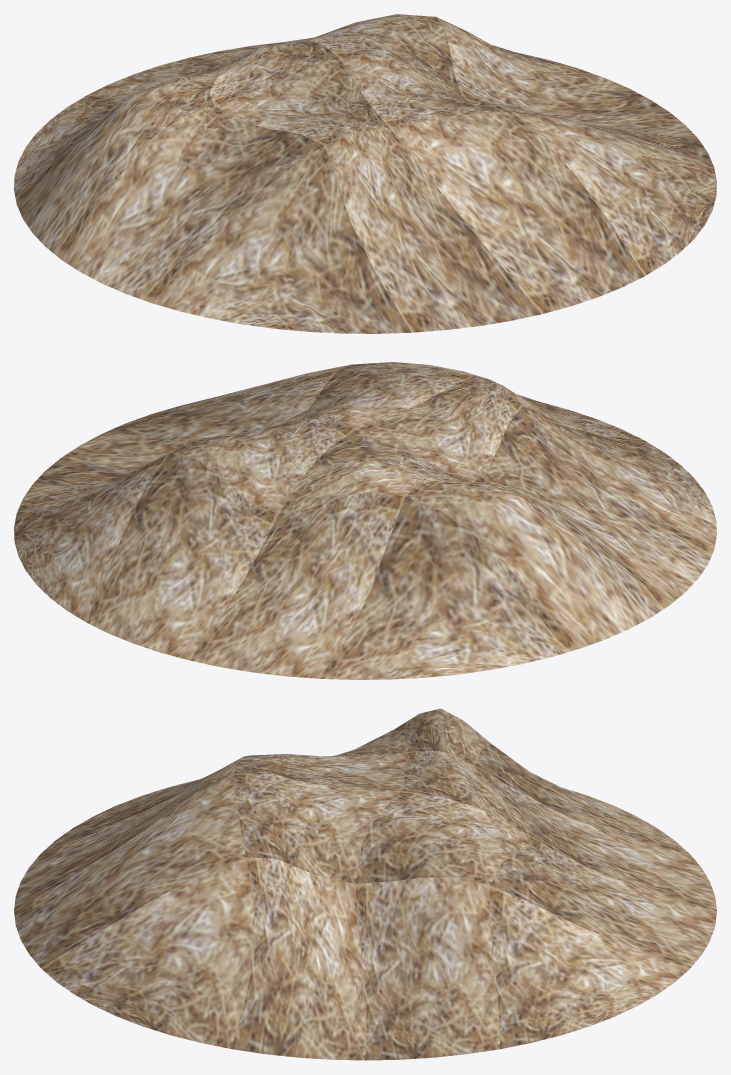
3 renders of one model, top to bottom at view 1: azimuth 30°, elevation 25°; view 2: azimuth 150°, elevation 25°; view 3: azimuth 270°, elevation 25°, orthographic.
Visible parts, largest first — view 1: heno2_atlas_granja_0; view 2: heno2_atlas_granja_0; view 3: heno2_atlas_granja_0.
Part boxes in pixels (left/top/right/bottom): heno2_atlas_granja_0: left=14, top=14, right=716, bottom=333; heno2_atlas_granja_0: left=14, top=362, right=716, bottom=679; heno2_atlas_granja_0: left=14, top=708, right=716, bottom=1060.
Bounding box in the file's own units: 10.12 × 1.9 × 10.12.
Materials: 1 (1 with a texture image).
